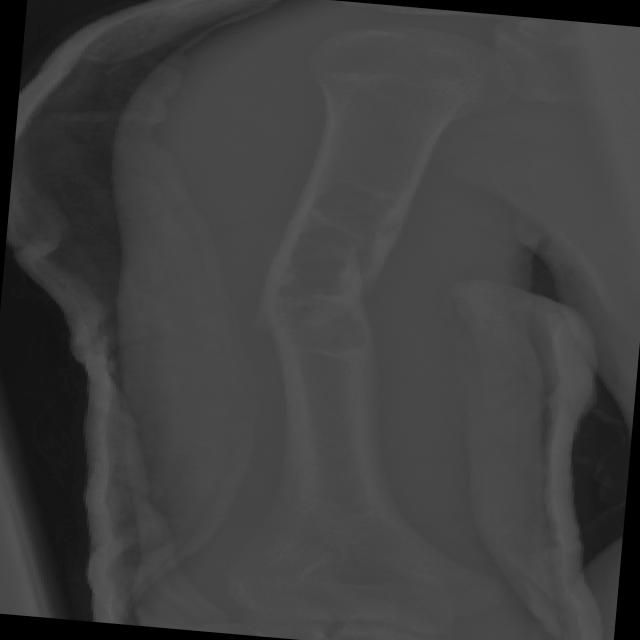humerus fracture: (213, 206, 480, 406)
